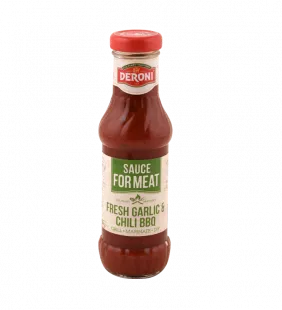DERONI: (91, 19, 181, 285)
